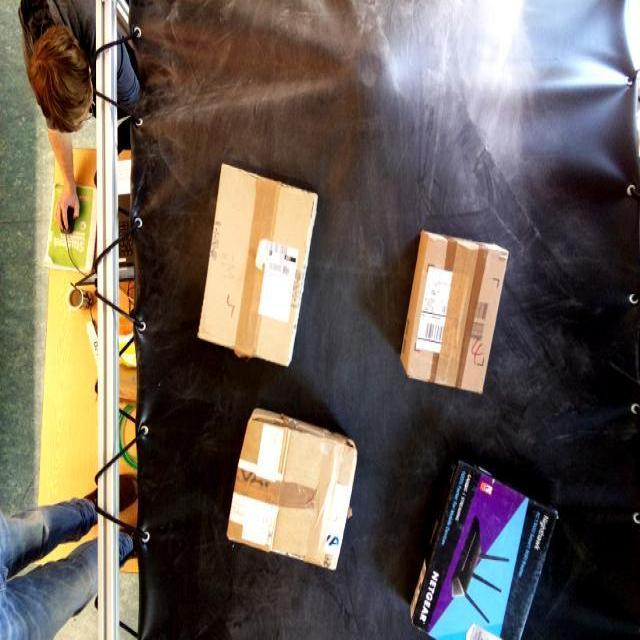box: (200, 160, 318, 372), (222, 412, 358, 574), (401, 226, 507, 398)
